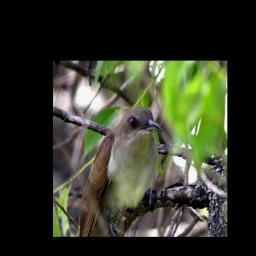Cuckoo: (78, 105, 163, 237)
